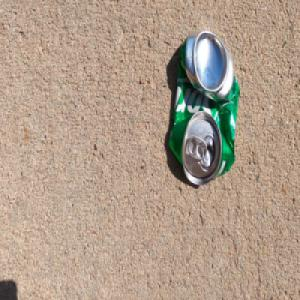SodaCan: (167, 27, 241, 187)
